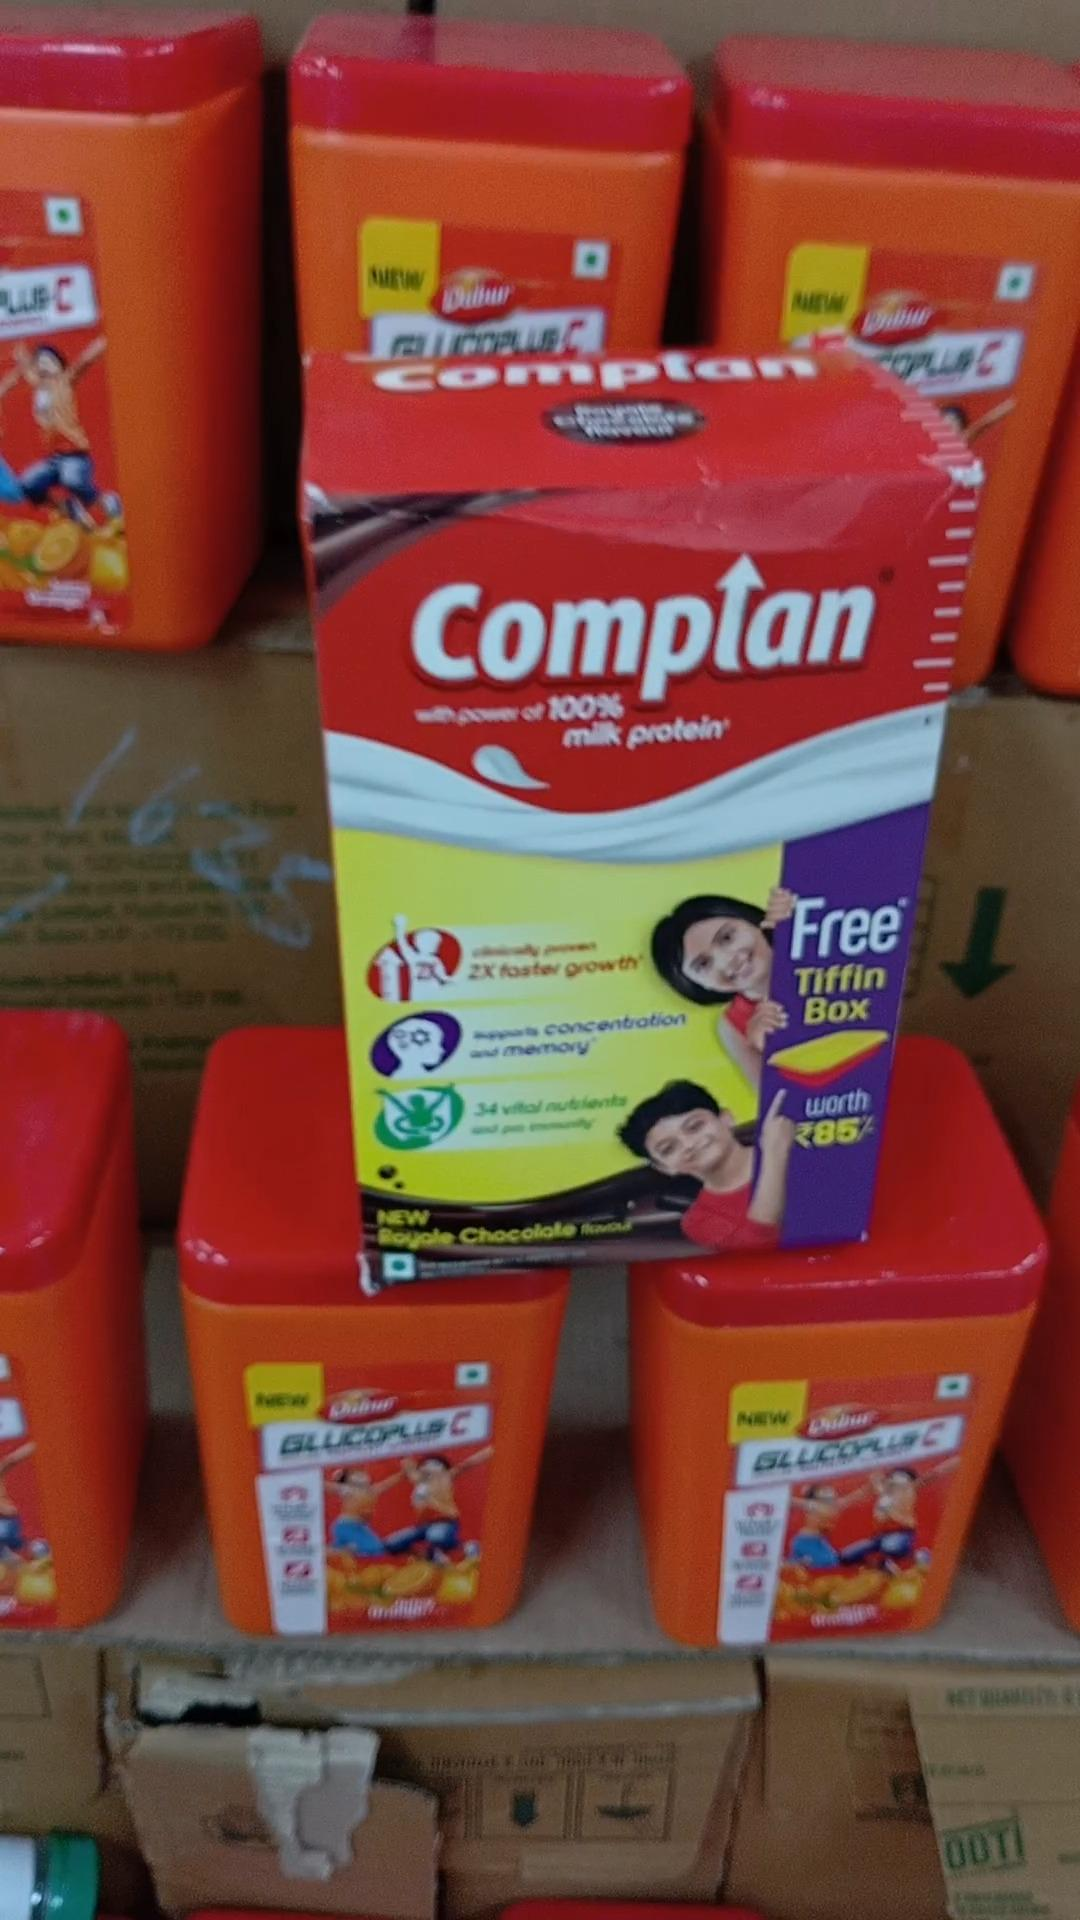COMPLAN_CHOCOLATE_500_GMS_PACK: (334, 498, 885, 1265)
